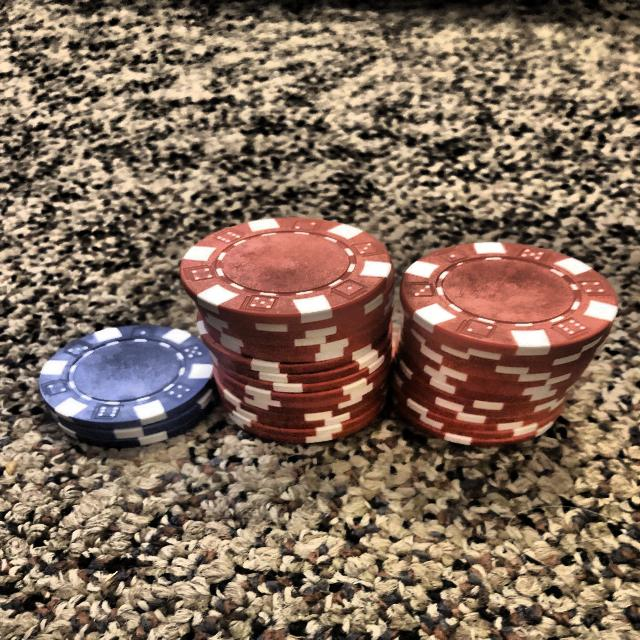Chip: (179, 215, 398, 447), (396, 240, 623, 450), (36, 323, 222, 450)
